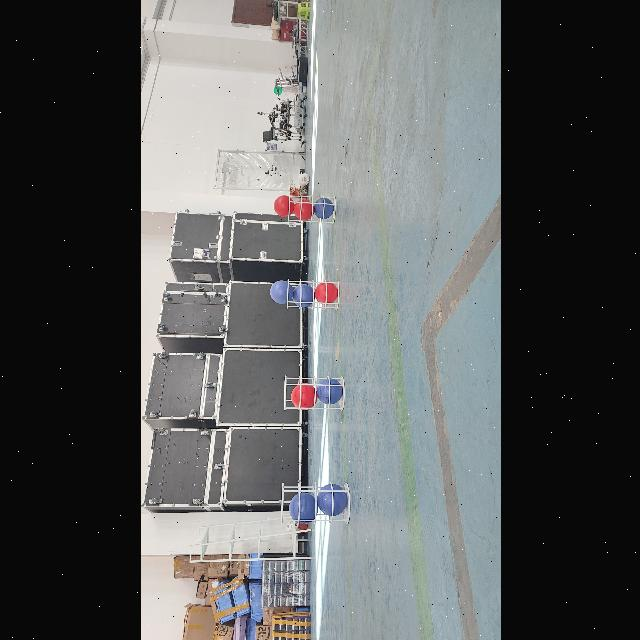B: (316, 483, 346, 519), (288, 492, 316, 524), (316, 378, 342, 404), (269, 280, 293, 304), (290, 283, 314, 307), (312, 198, 333, 218)
R: (290, 383, 316, 411), (272, 195, 294, 217), (314, 282, 336, 304), (292, 200, 312, 220)
S: (278, 478, 350, 530), (281, 370, 345, 412), (285, 190, 339, 228), (284, 278, 342, 312)
